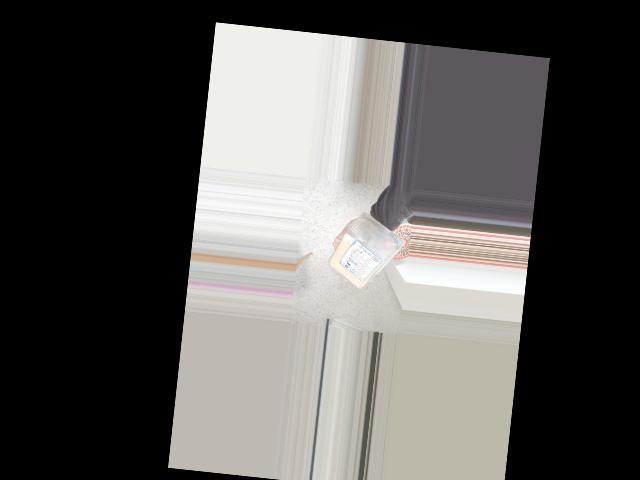cheese: (335, 219, 400, 295)
